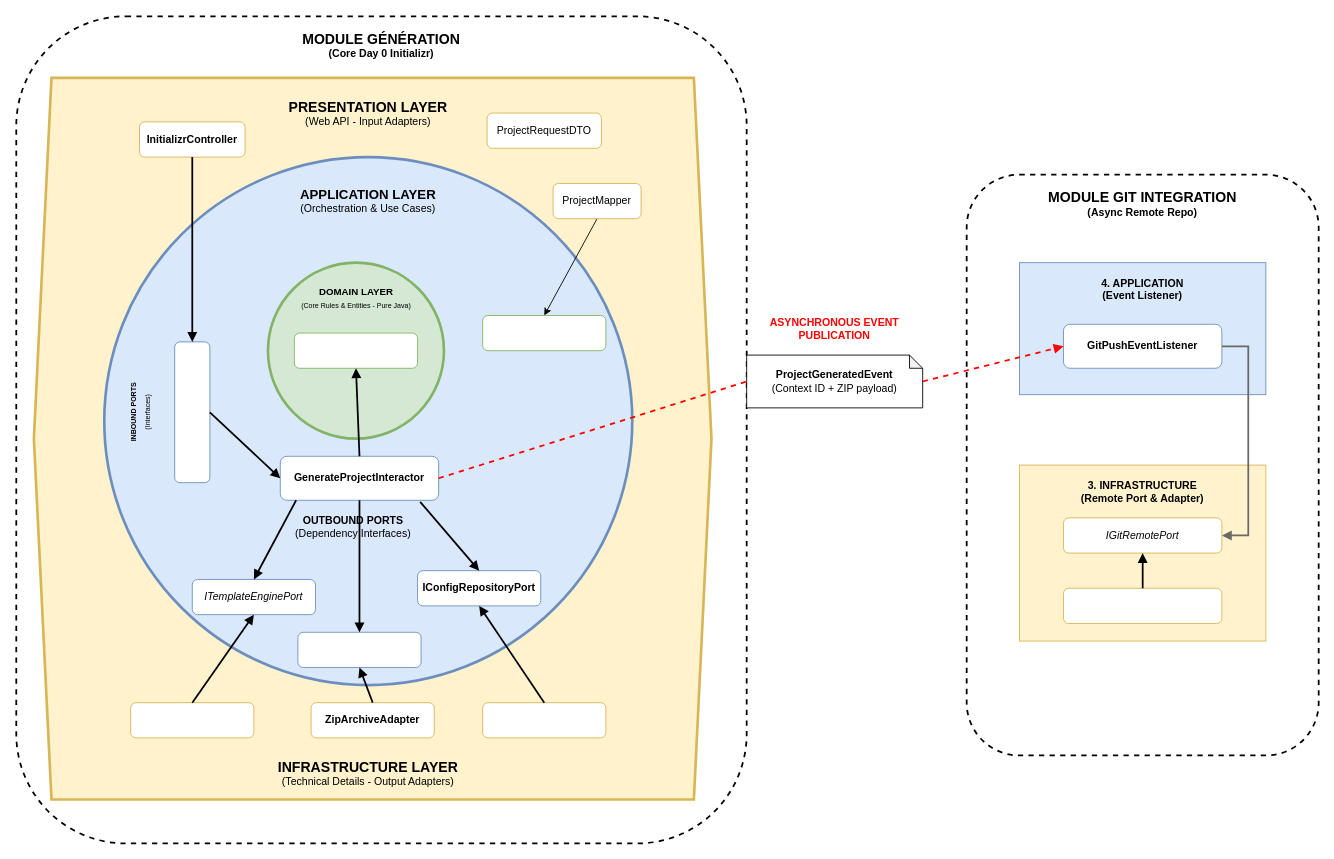
This 1334x859 diagram has some shape labels left out. The centre of each missing label's shape, as x and y in pixels:
"FreeMarkerAdapter" belongs at pixel 192 720.
"GenerationContext" belongs at pixel 355 350.
"GithubApiAdapter" belongs at pixel 1142 605.
"IArchivePort" belongs at pixel 359 649.
"IGenerateProjectUseCase" belongs at pixel 192 412.
"PostgresAdapter" belongs at pixel 544 720.
"ProjectException" belongs at pixel 544 333.
